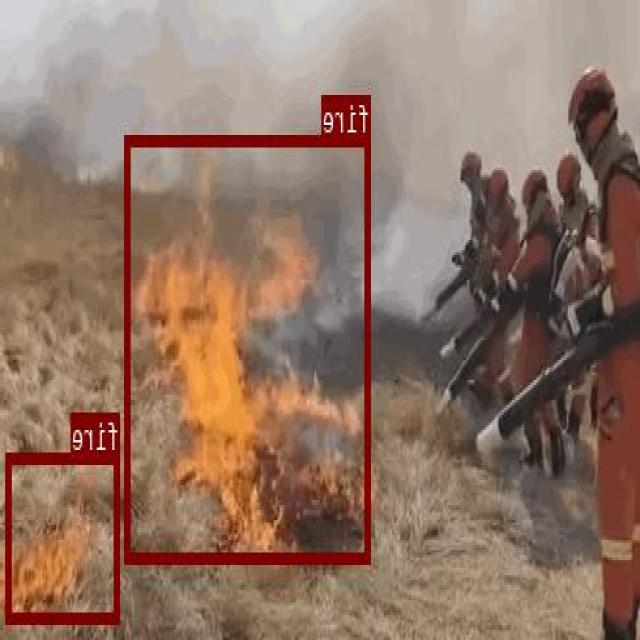fire: (126, 134, 372, 562), (7, 452, 121, 622)
